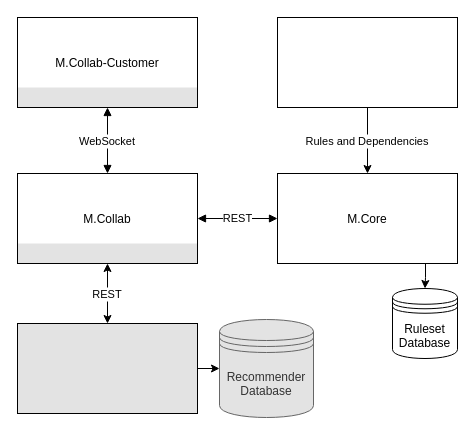
This 475x435 diagram has some shape labels left out. Here are the shapes that lost their labels. From the top down, the box of each, then its label:
(276, 16, 458, 108): M.Model
(16, 322, 198, 414): M.Recommend
